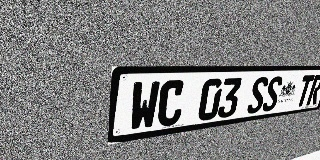0: (197, 78, 224, 122)
3: (217, 78, 242, 119)
C: (156, 80, 186, 128)
R: (306, 75, 320, 106)
S: (246, 77, 270, 114), (261, 76, 284, 112)
T: (295, 75, 315, 107)
W: (129, 81, 160, 132)
